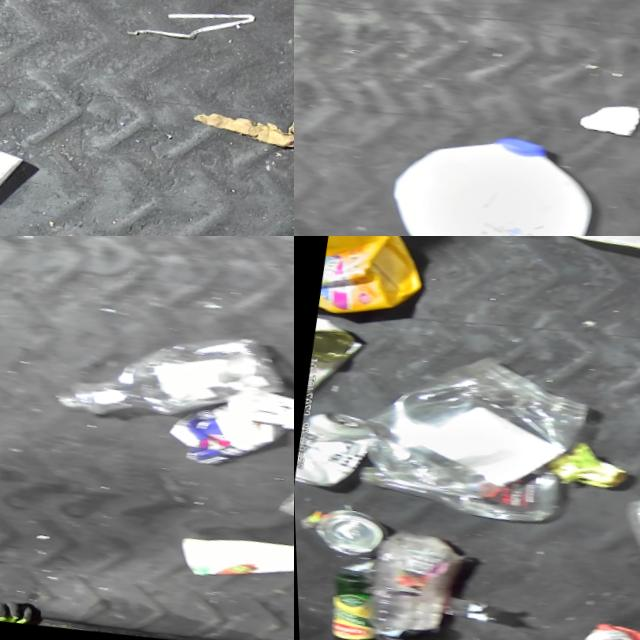can: (294, 403, 384, 497), (294, 501, 404, 572), (559, 614, 640, 640)
milk_jug: (373, 114, 602, 236), (524, 236, 640, 296)
non_white_jug: (313, 236, 435, 331)
